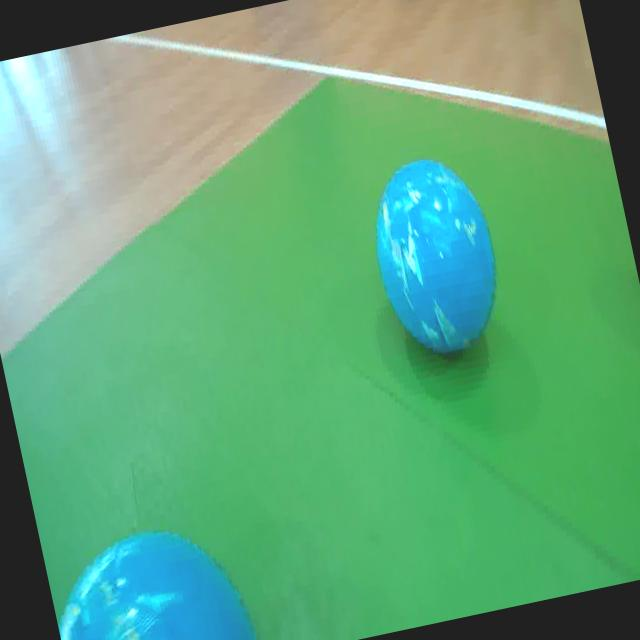blue_ball: (355, 140, 520, 373), (39, 499, 265, 640)
